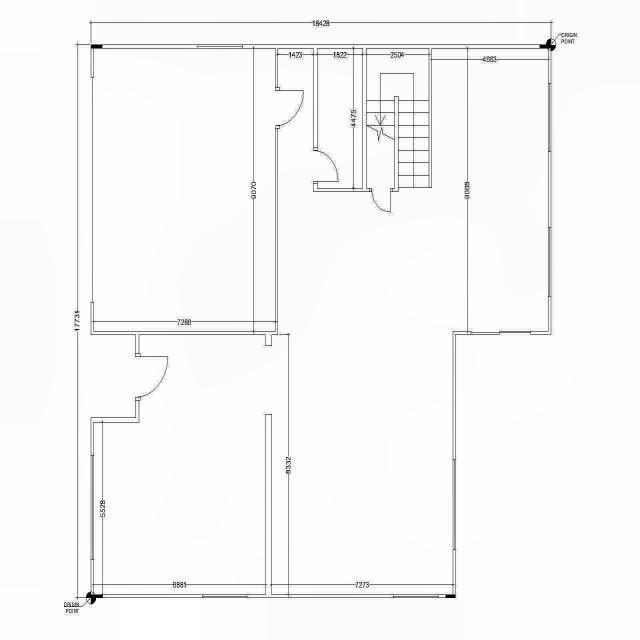Column: (540, 44, 552, 49), (91, 44, 102, 49), (91, 594, 103, 598), (446, 594, 456, 598)
Door: (135, 354, 169, 401), (275, 88, 304, 128), (313, 147, 339, 184), (370, 188, 392, 213)
Sliding Door: (471, 332, 531, 334)
Staircase: (367, 49, 429, 188)
Window: (452, 459, 456, 550), (91, 455, 94, 560), (197, 44, 243, 49), (548, 227, 551, 297), (548, 83, 551, 152), (202, 594, 247, 598), (394, 594, 438, 598)
